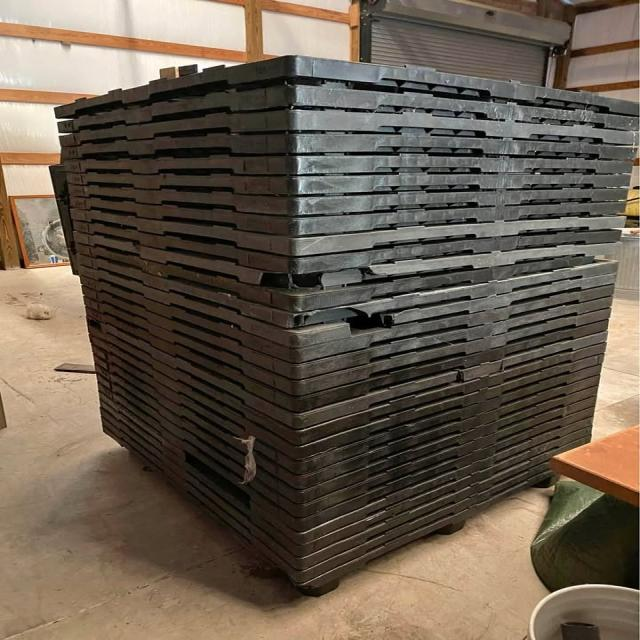non-igps: (97, 405, 593, 574), (101, 423, 564, 602), (99, 413, 555, 590), (92, 370, 600, 528), (97, 404, 594, 565), (94, 390, 596, 549), (85, 322, 608, 467), (91, 361, 602, 509), (90, 352, 602, 495), (88, 342, 604, 478), (84, 323, 610, 452), (82, 313, 615, 435), (82, 303, 612, 418), (79, 294, 613, 405), (77, 283, 617, 389), (74, 273, 620, 371), (73, 259, 622, 354), (73, 248, 623, 334), (49, 51, 640, 125), (68, 237, 600, 319), (54, 71, 640, 141), (68, 238, 628, 301), (67, 205, 629, 264), (70, 224, 625, 280), (63, 191, 632, 244), (54, 100, 640, 150), (56, 116, 640, 166), (64, 178, 633, 223), (61, 164, 638, 205), (60, 143, 637, 183)
